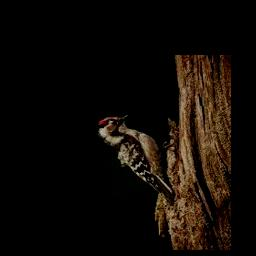Woodpecker: (96, 114, 173, 204)
